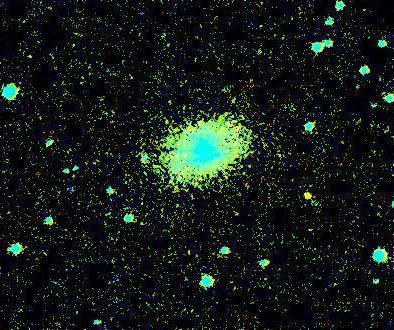star: (293, 176, 323, 206)
